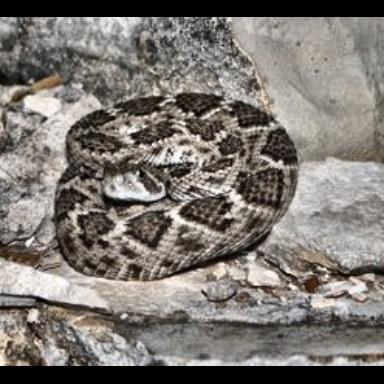snake: (67, 97, 299, 278)
